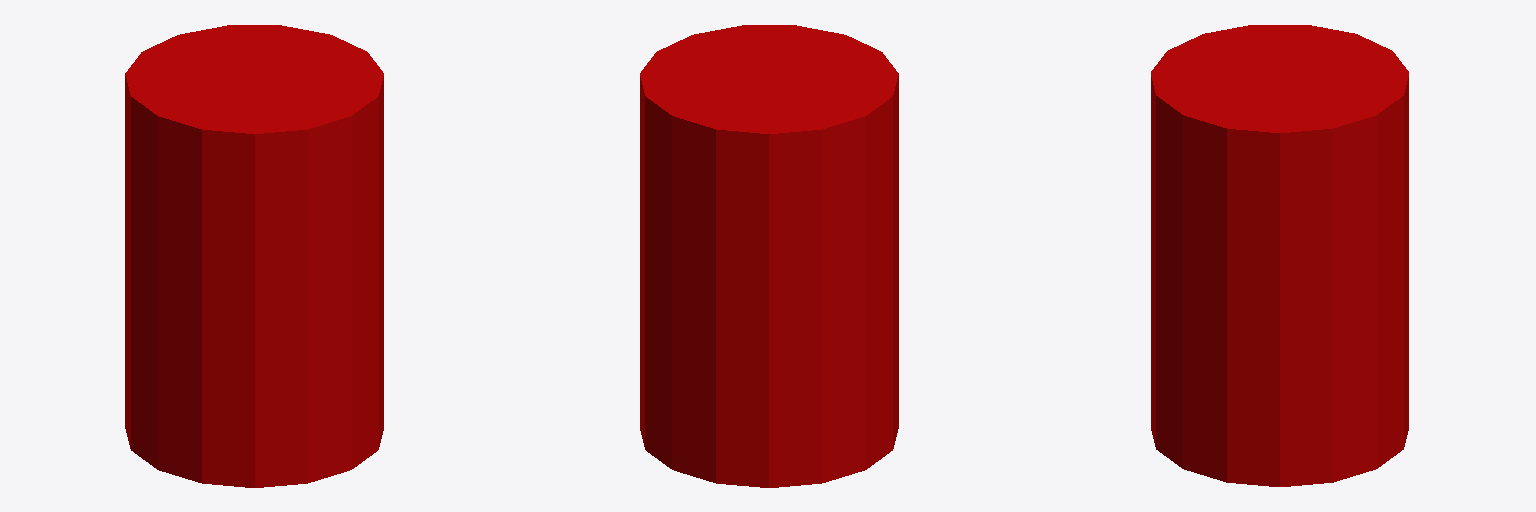
File: TestOilBarrel.obj
3 renders of one model, left to right at view 1: azimuth 30°, elevation 25°; view 2: azimuth 150°, elevation 25°; view 3: azimuth 270°, elevation 25°, orthographic.
Visible parts, largest first — view 1: TestOilBarrel; view 2: TestOilBarrel; view 3: TestOilBarrel.
Part boxes in pixels (left/top/right/bottom): TestOilBarrel: left=125, top=25, right=383, bottom=487; TestOilBarrel: left=640, top=25, right=898, bottom=487; TestOilBarrel: left=1151, top=25, right=1408, bottom=486.
Size of the model in its own units: 1.98 by 3 by 1.99.